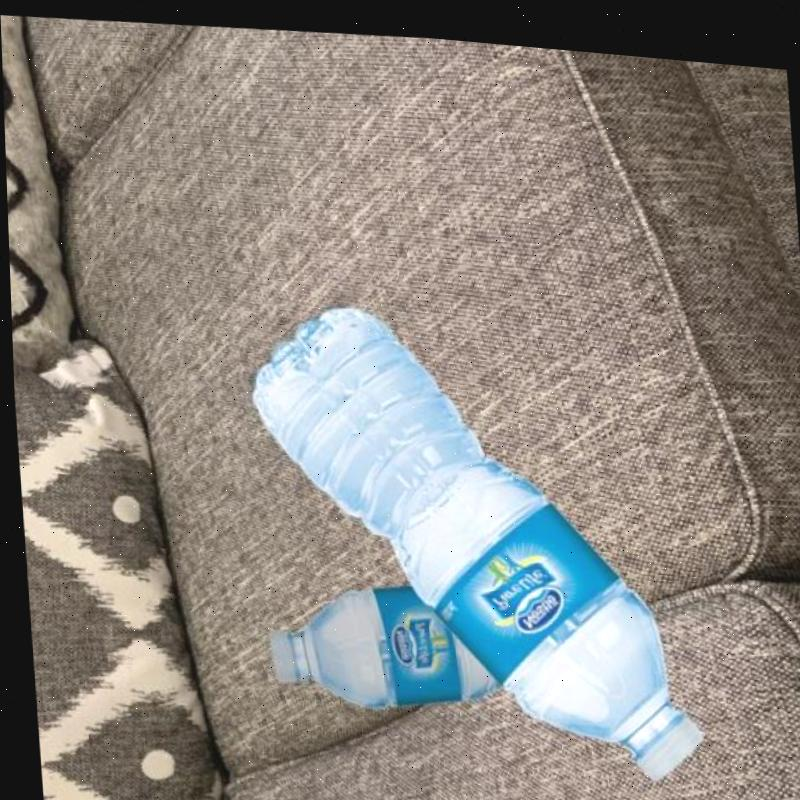botella: (247, 282, 712, 789), (243, 561, 527, 712)
